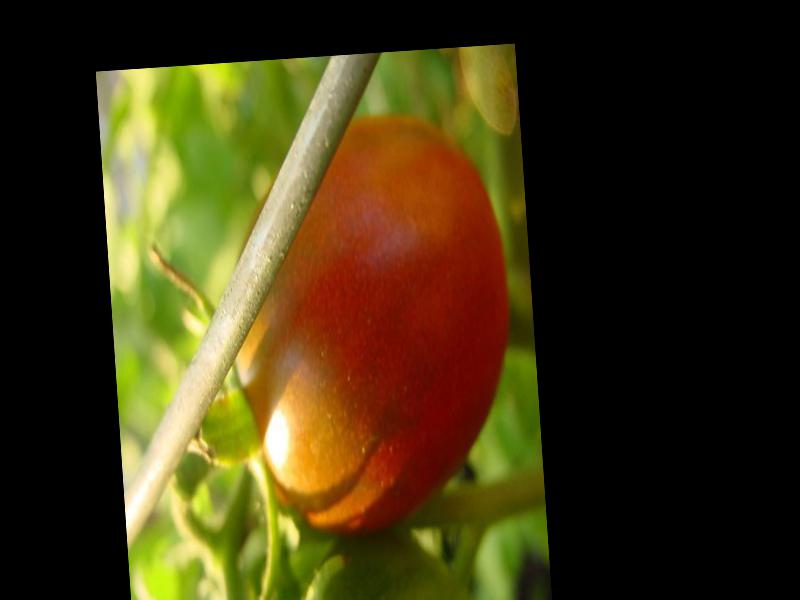Tomato: (221, 114, 522, 535)
